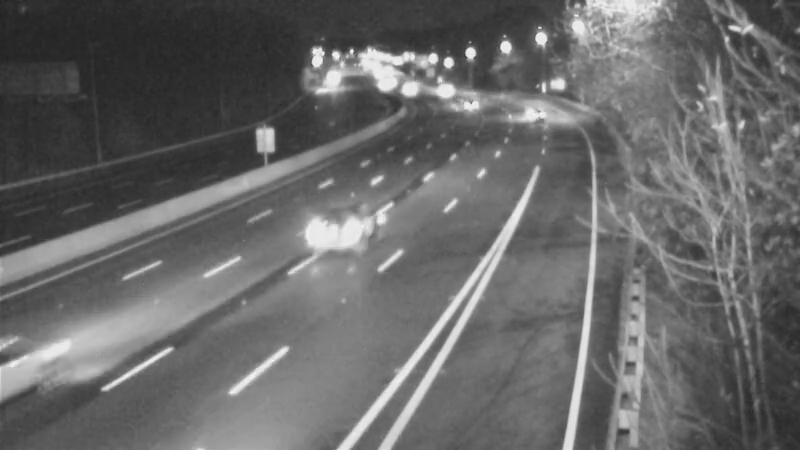vehicle: (1, 305, 94, 415), (307, 191, 387, 271), (385, 63, 435, 113), (418, 64, 468, 114), (436, 81, 486, 131), (508, 85, 558, 135)
